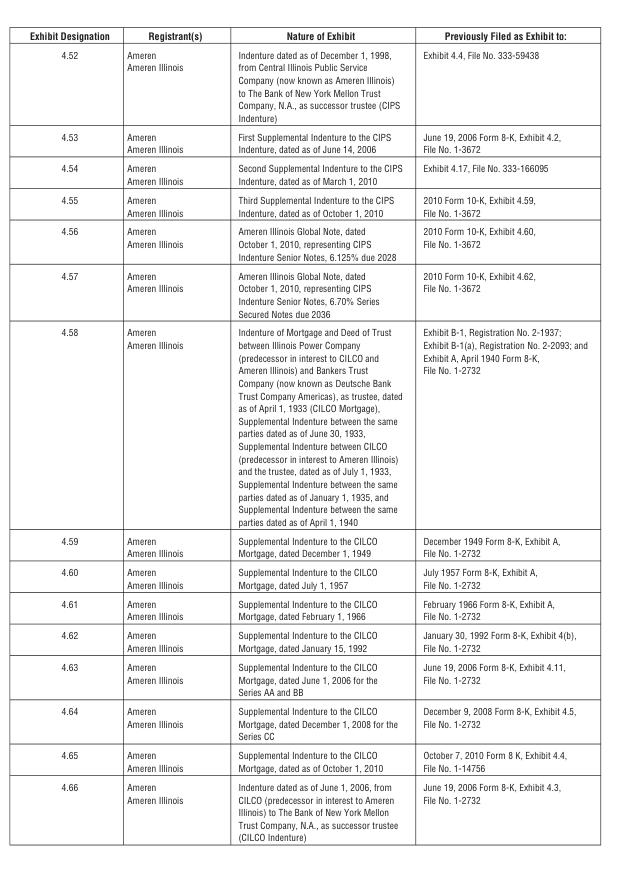table: (28, 28, 586, 842)
table column: (219, 28, 412, 842), (412, 28, 586, 842), (117, 28, 219, 842), (28, 28, 117, 842)
table column header: (28, 28, 586, 44)
table row: (28, 322, 586, 530), (28, 44, 586, 126), (28, 776, 586, 842), (28, 265, 586, 322), (28, 221, 586, 265), (28, 657, 586, 701), (28, 701, 586, 745), (28, 126, 586, 158), (28, 189, 586, 221), (28, 530, 586, 562), (28, 593, 586, 625), (28, 625, 586, 657), (28, 158, 586, 189), (28, 562, 586, 593), (28, 745, 586, 776), (28, 28, 586, 44)
